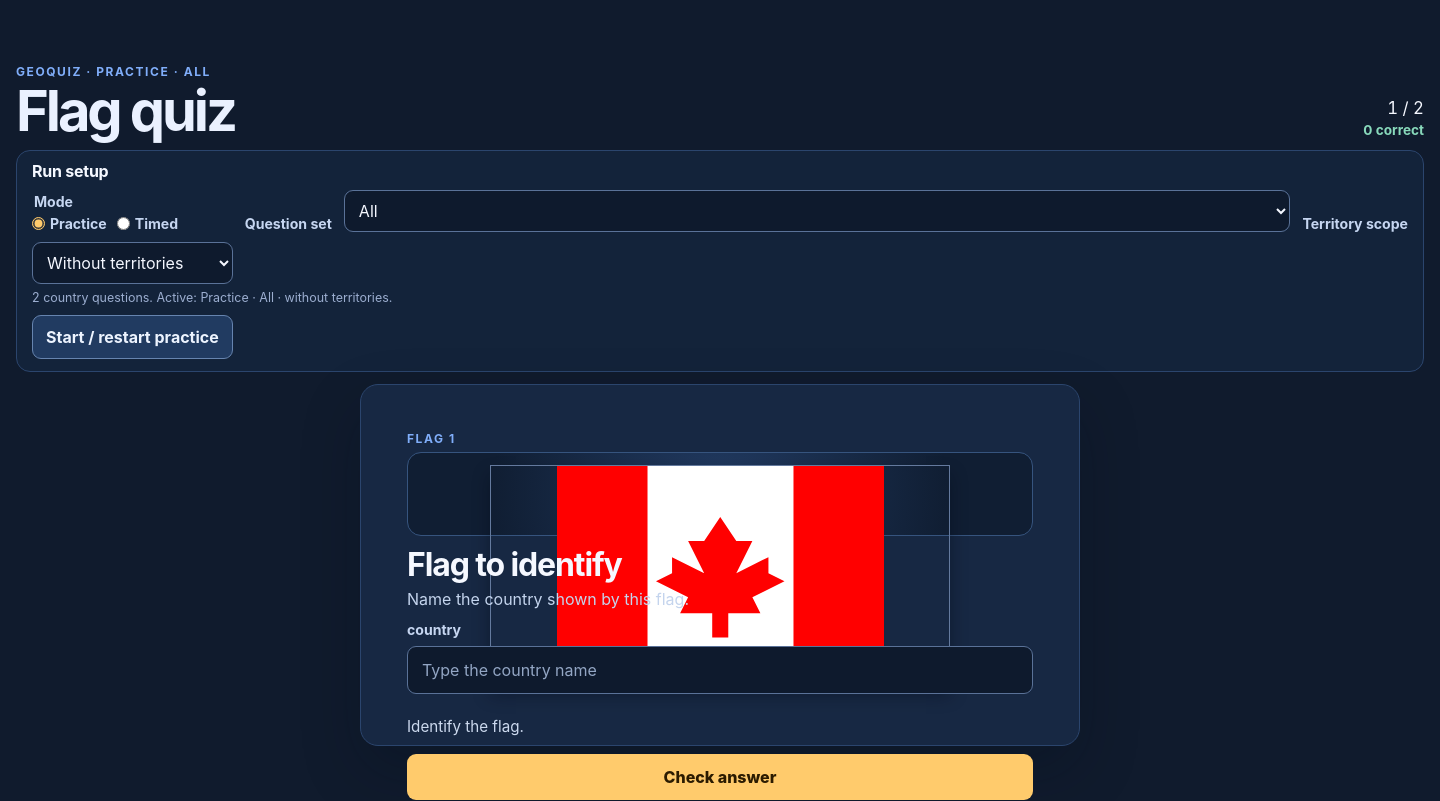
Test: FlagCountryQuiz › guards double Skip and Reveal so each action consumes only one outcome
Click the radio button labelled "Timed" at [123, 223], box [117,217,130,230]
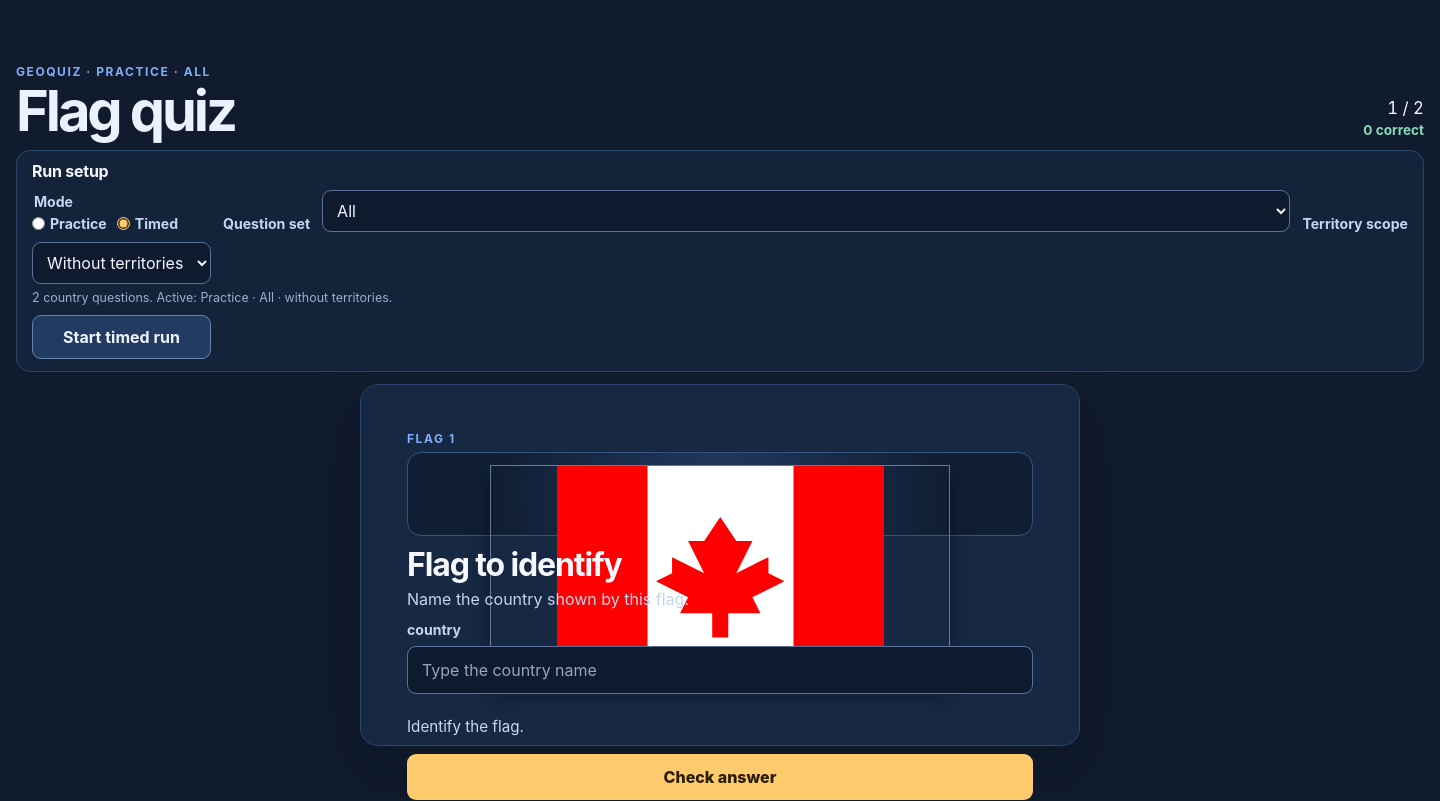
Click the button "Start timed run" at [122, 337], box [32,315,211,359]
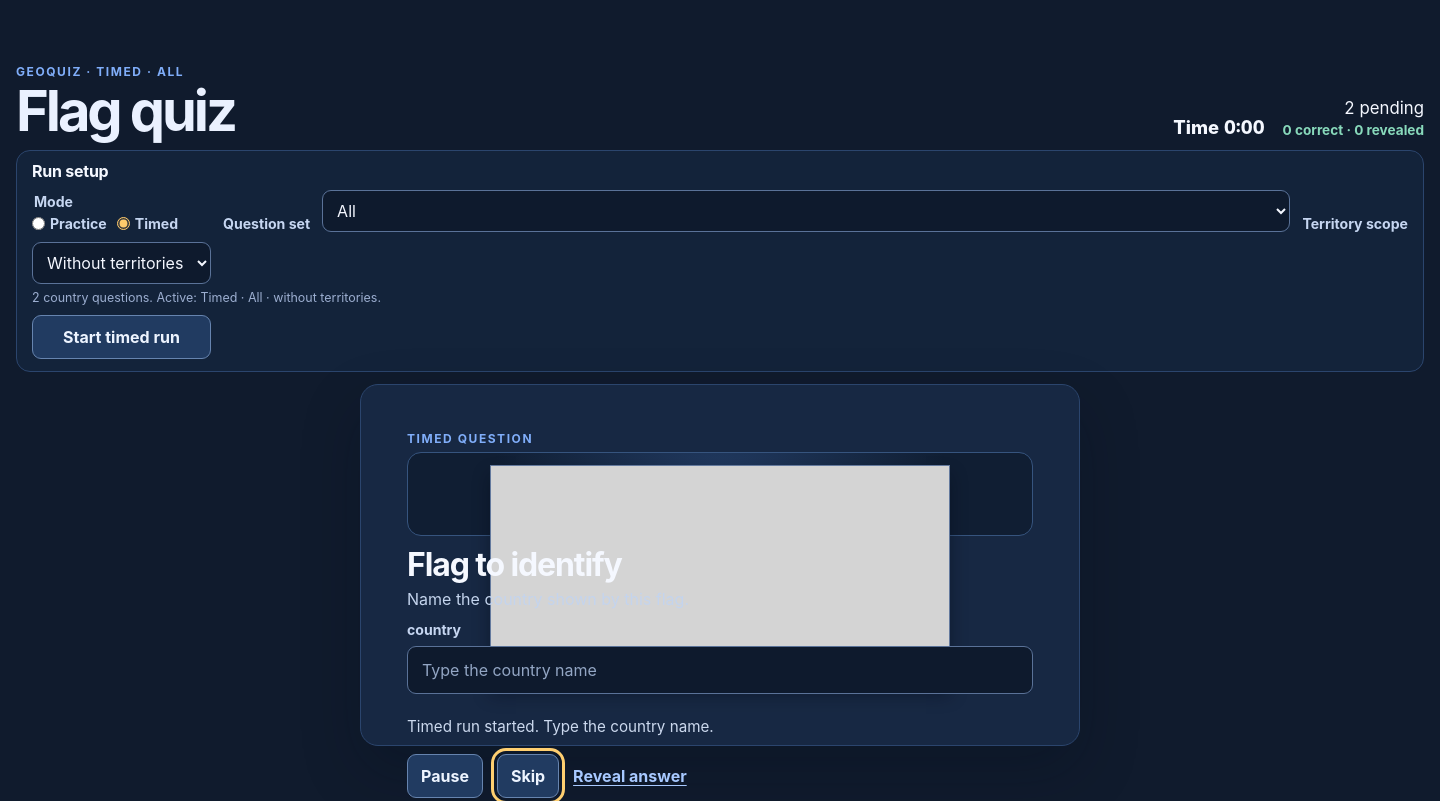
Press Enter in the button "Skip", box [497,754,559,798]
Press Space in the button "Skip", box [497,754,559,798]
Click the button "Skip" at [528, 776], box [497,754,559,798]
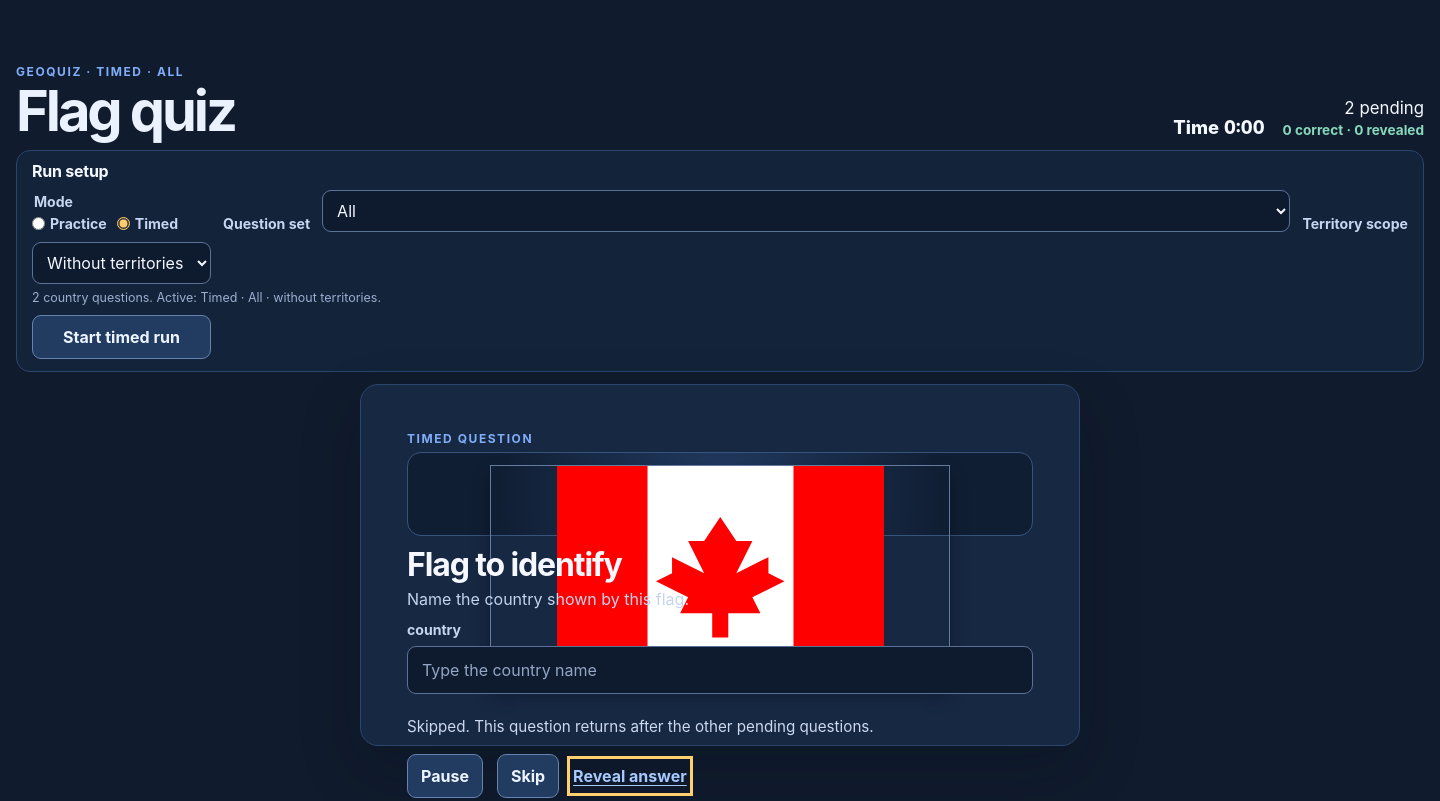
Press Enter in the button "Reveal answer", box [573,762,687,790]
Press Space in the button "Reveal answer", box [573,762,687,790]
expect the heading "Answer revealed" is not shown: met
Click the button "Reveal answer" at [630, 776], box [573,762,687,790]
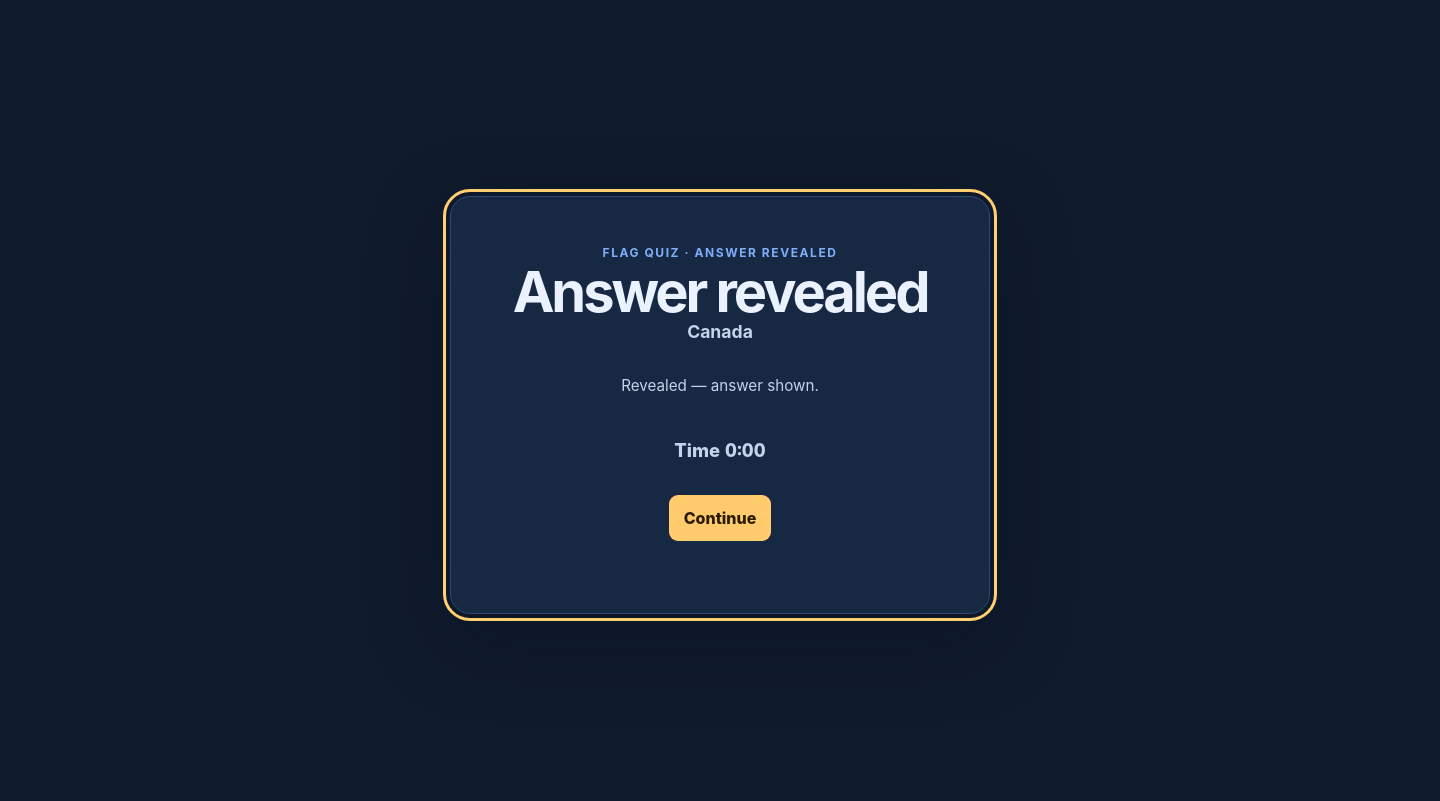
expect the number of headings "Answer revealed" is 1: met, box [499,266,941,319]
